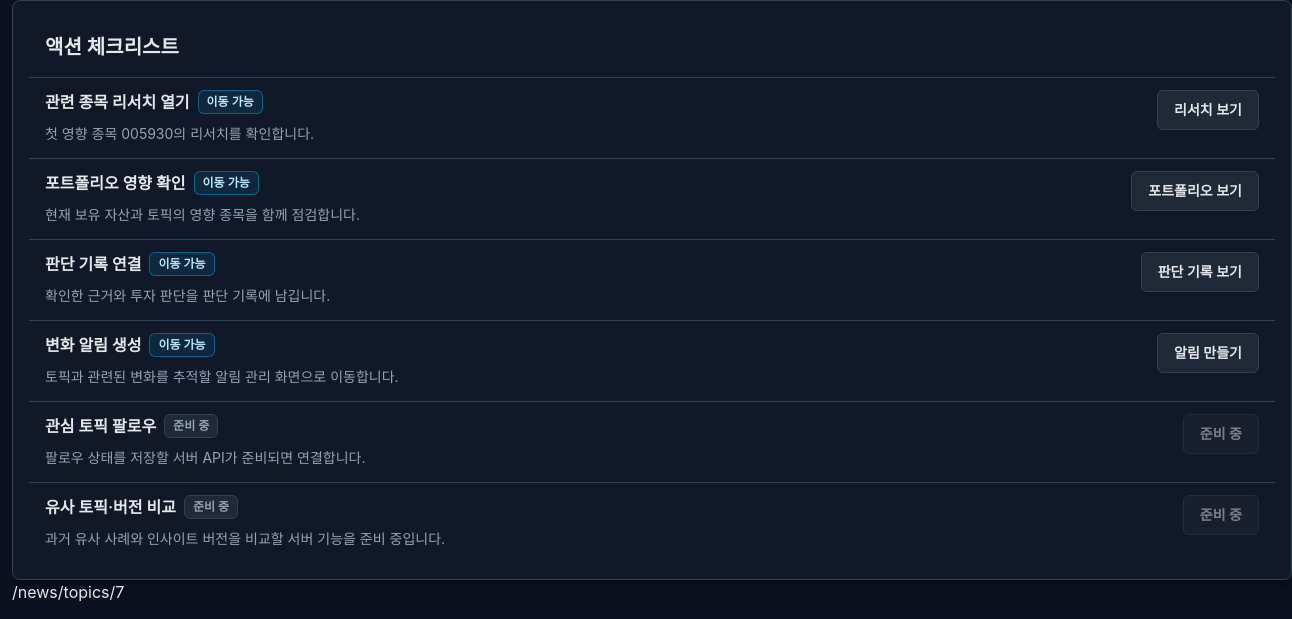
Test case: TopicActionChecklist › 리서치 보기 액션을 기존 경로로 연결한다
What coordinates should you click on to do the following:
click the button "리서치 보기"
I would click on:
 (1208, 110)
Its box is [1157, 90, 1259, 130].
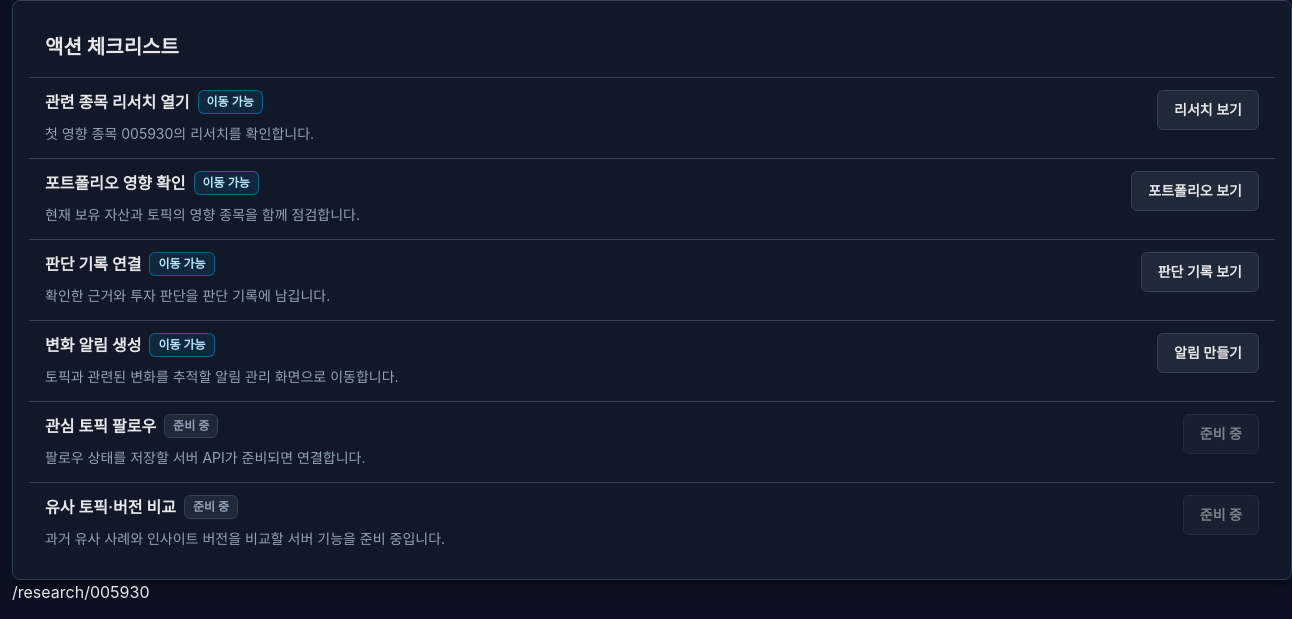
Now the text named "현재 경로" reads "/research/005930", box [12, 582, 150, 602]
